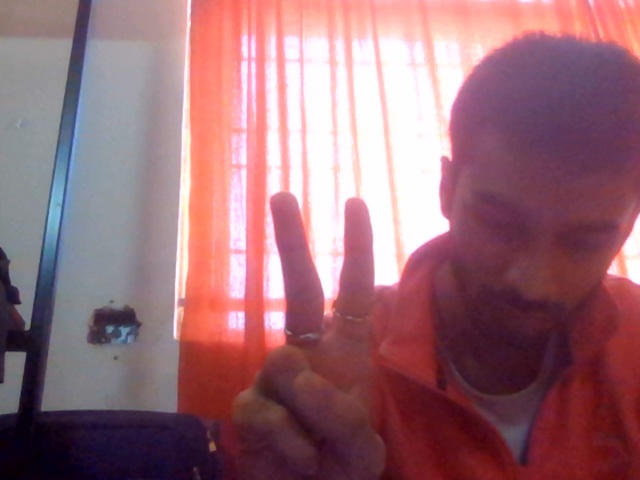V: (217, 157, 418, 480)
